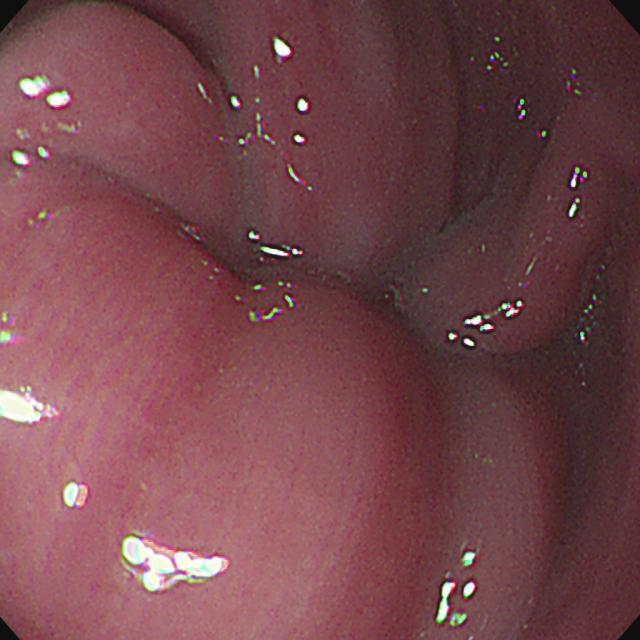U: (122, 537, 231, 594), (2, 385, 62, 427), (465, 300, 525, 335), (19, 74, 74, 110), (436, 582, 477, 627), (249, 231, 304, 259), (63, 482, 90, 510), (274, 38, 294, 59), (570, 168, 589, 190), (12, 150, 32, 169), (567, 200, 582, 218), (297, 98, 311, 113), (38, 148, 53, 160)
